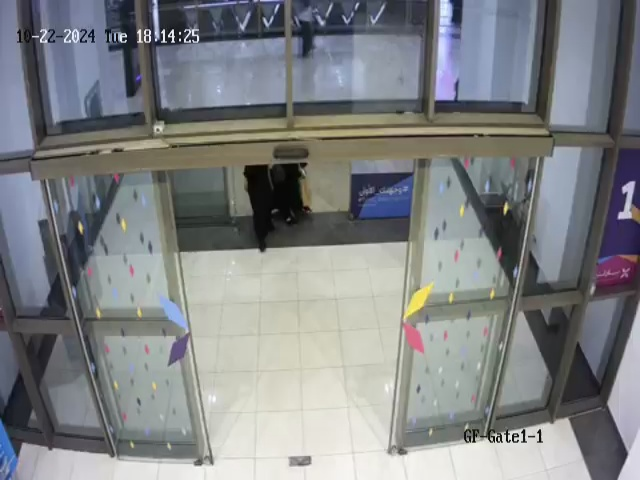male: (231, 161, 325, 258)
